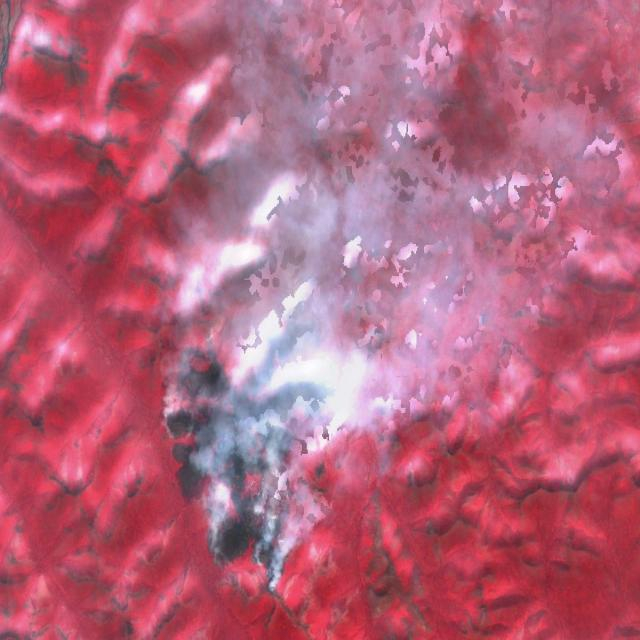fire: (156, 293, 343, 593)
